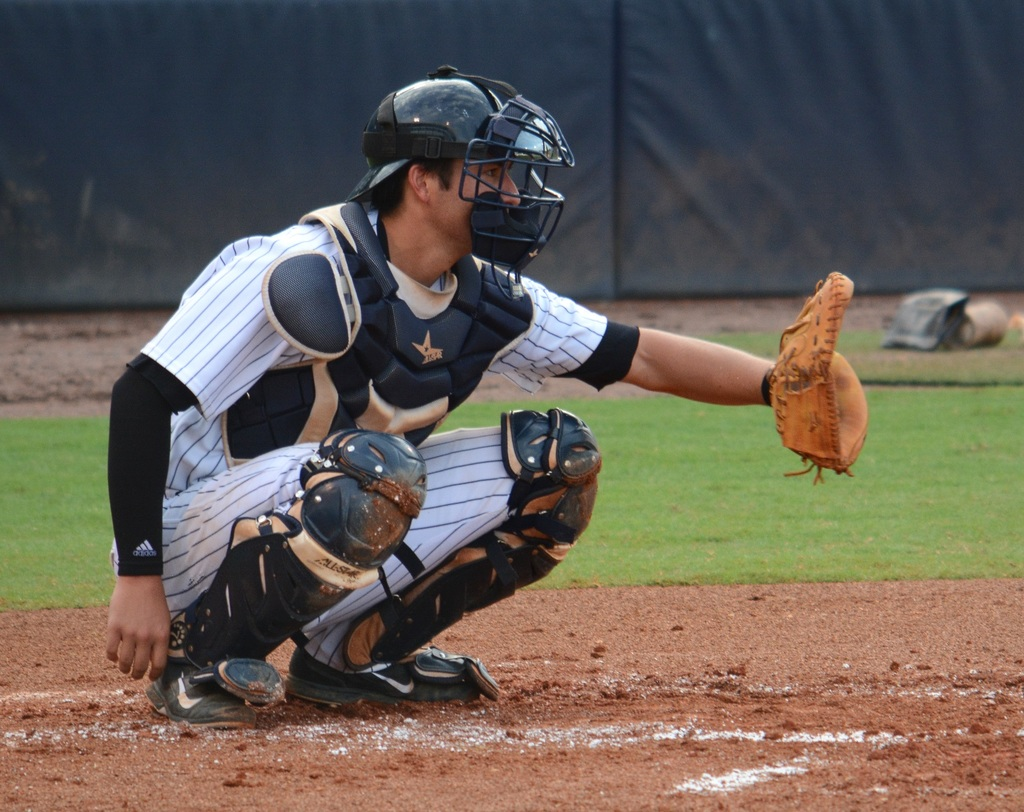Person: (107, 64, 868, 728)
